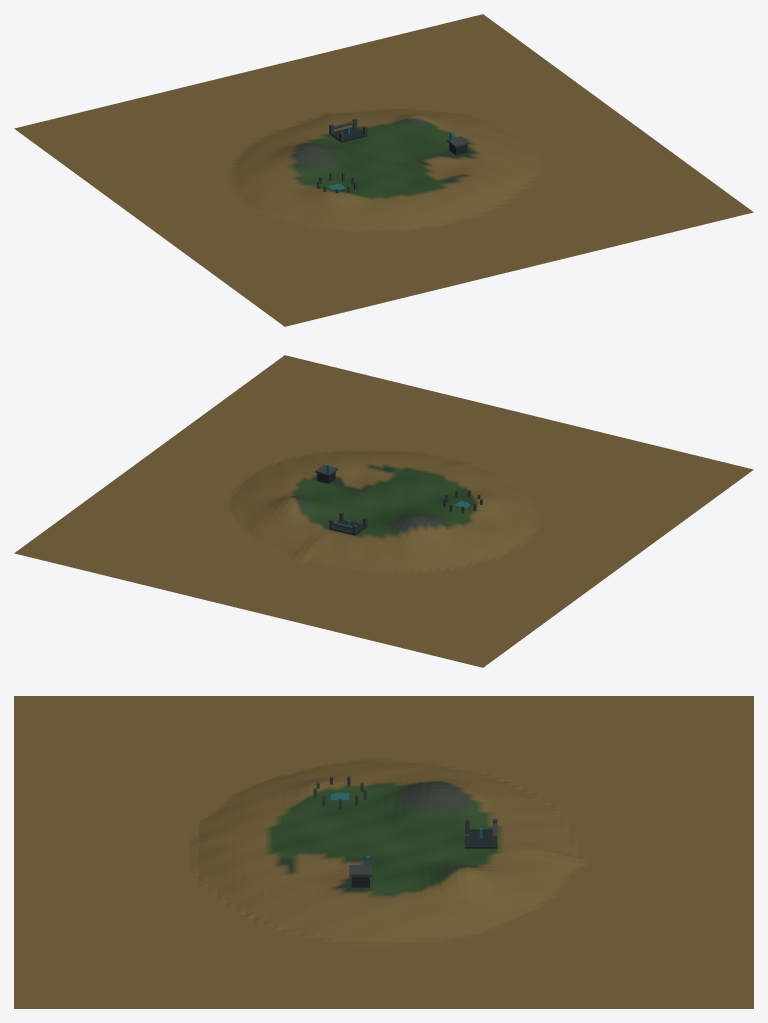
Rendered from demo_map.obj.
The picture shows the model from 3 angles, top to bottom: view 1: azimuth 30°, elevation 25°; view 2: azimuth 150°, elevation 25°; view 3: azimuth 270°, elevation 25°; orthographic projection. The views are drawn at different scales.
Parts seen in each view (by area): view 1: mysterious_island; view 2: mysterious_island; view 3: mysterious_island.
Boxes of the visible parts, x1=… form: mysterious_island: x1=14, y1=14, x2=753, y2=326; mysterious_island: x1=14, y1=355, x2=753, y2=667; mysterious_island: x1=14, y1=696, x2=753, y2=1008.
Size of the model in its own units: 320 by 17.5 by 320.
